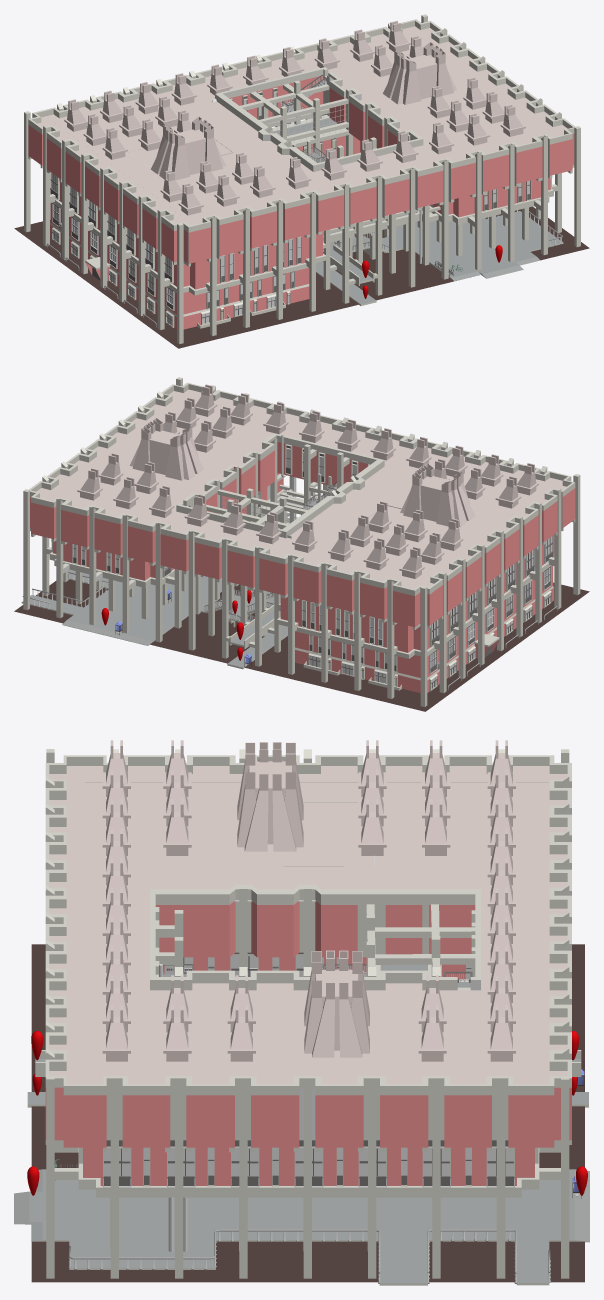
3 views of the same model, one above another, from view 1: azimuth 30°, elevation 25°; view 2: azimuth 150°, elevation 25°; view 3: azimuth 270°, elevation 25° (orthographic). The views are drawn at different scales.
Parts seen in each view (by area): view 1: Cube041, Second_Library, Ground_Library, First_Library, Basement_Library, Reflectors; view 2: Cube041, Second_Library, Ground_Library, First_Library, Basement_Library, Reflectors; view 3: Cube041, Second_Library, Ground_Library, First_Library, Reflectors.
Part boxes in pixels (x1,y1,x2,y2): Cube041: (24,14,580,343); Second_Library: (28,19,575,266); Ground_Library: (14,202,589,348); First_Library: (50,114,553,295); Basement_Library: (50,215,309,329); Reflectors: (51,93,529,325); Cube041: (23,377,580,706); Second_Library: (29,382,575,629); Ground_Library: (14,512,589,711); First_Library: (49,473,554,658); Basement_Library: (295,579,553,692); Reflectors: (73,449,552,688); Cube041: (46,740,569,1279); Second_Library: (45,755,571,1152); Ground_Library: (14,944,589,1285); First_Library: (78,952,539,1197); Reflectors: (104,956,513,1175).
Bounding box in the file's own units: 520 × 183 × 371.
